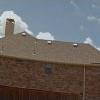Chimney: (2, 14, 21, 44)
